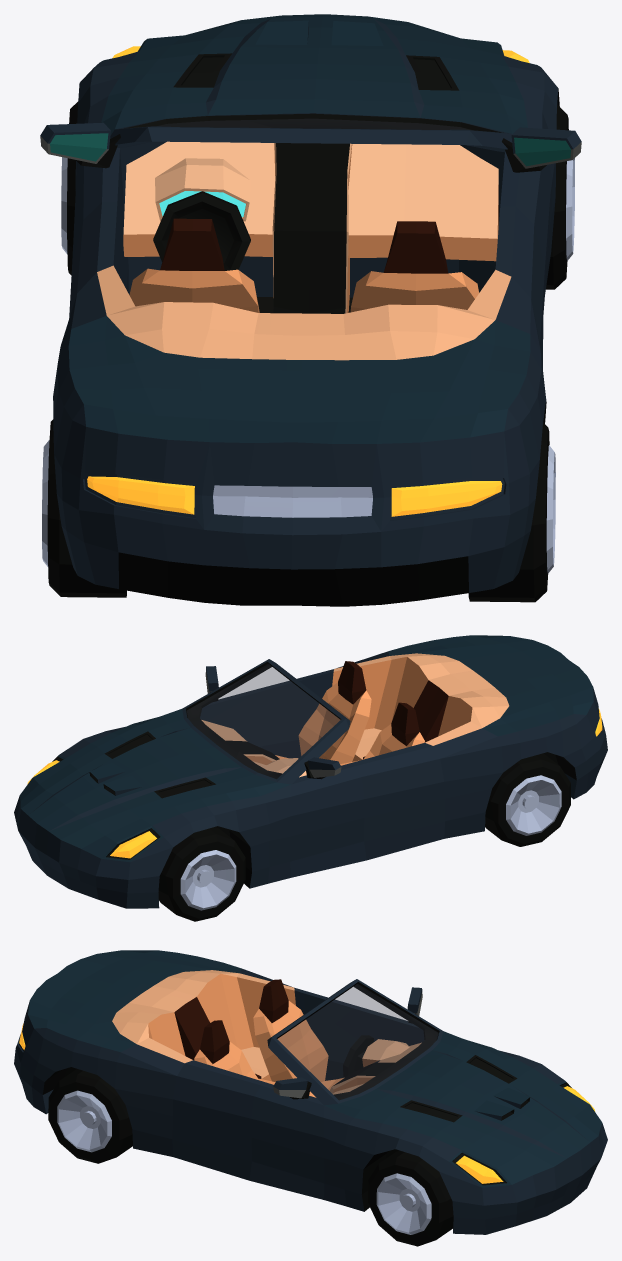
The model's file is AstonMartin_01.glb.
The picture shows the model from 3 angles, top to bottom: view 1: azimuth 30°, elevation 25°; view 2: azimuth 150°, elevation 25°; view 3: azimuth 270°, elevation 25°; orthographic projection. The views are drawn at different scales.
Parts seen in each view (by area): view 1: AstonMartin.01; view 2: AstonMartin.01; view 3: AstonMartin.01.
Part boxes in pixels (x1,y1,x2,y2): AstonMartin.01: (40, 14, 581, 606); AstonMartin.01: (14, 635, 607, 921); AstonMartin.01: (14, 950, 607, 1246).
Size of what is drawn, in the model's own units: 5.02 by 1.78 by 6.32.
Materials: 2 (2 with a texture image).
